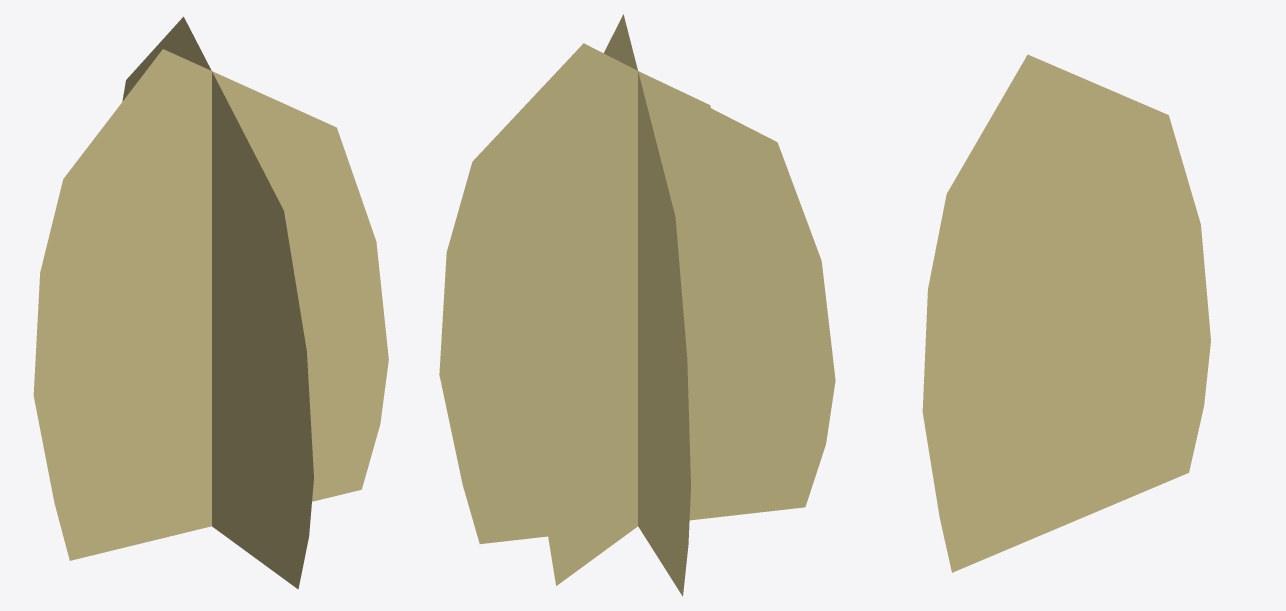
The model's file is SM_Wheat.glb.
3 views of the same model, side by side, from view 1: azimuth 30°, elevation 25°; view 2: azimuth 150°, elevation 25°; view 3: azimuth 270°, elevation 25° (orthographic).
Visible parts, largest first — view 1: SM_Wheat; view 2: SM_Wheat; view 3: SM_Wheat.
Boxes of the visible parts, x1,y1,x2,y2 form: SM_Wheat: (33, 16, 388, 589); SM_Wheat: (439, 14, 835, 596); SM_Wheat: (922, 54, 1210, 572).
Bounding box in the file's own units: 0.4977 × 0.655 × 0.4977.
